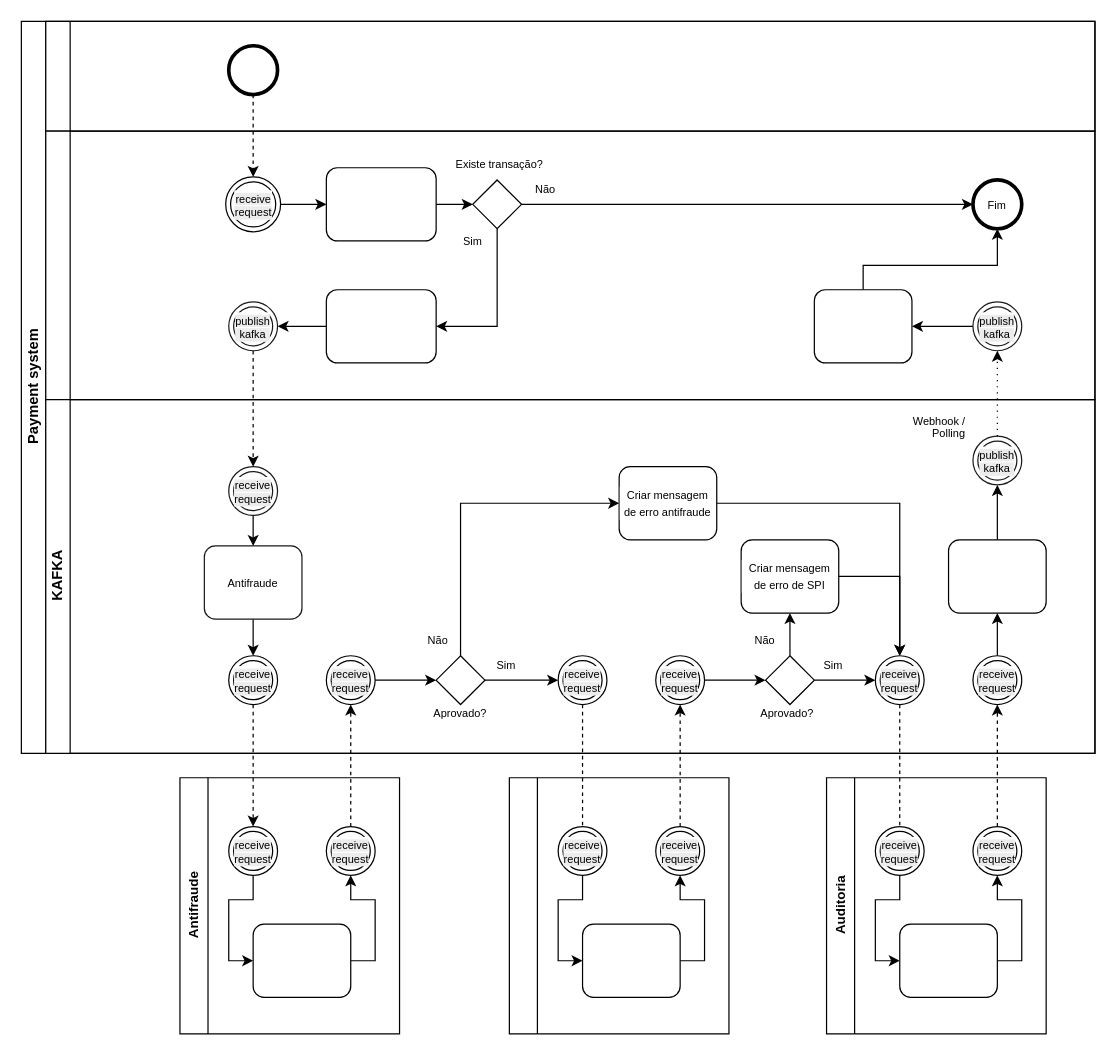
The diagram is 1116 pixels wide and 1055 high, and some of its shapes have lost their labels. Each missing label, with the box of its shape:
Altera status no banco de dados: (813, 289, 912, 363)
Antifraude rules: (252, 923, 351, 997)
API: (45, 130, 1095, 400)
Busca no banco de dados por transações agendadas: (325, 167, 436, 241)
Início: (226, 43, 279, 96)
Publicar resultado: (947, 539, 1046, 613)
Registro do log para auditoria: (899, 923, 997, 997)
Registro do pagamento: (581, 923, 680, 997)
Salvar instrução no banco de dados: (325, 289, 436, 363)
Server: (45, 20, 1095, 131)
SPI: (508, 777, 729, 1034)
